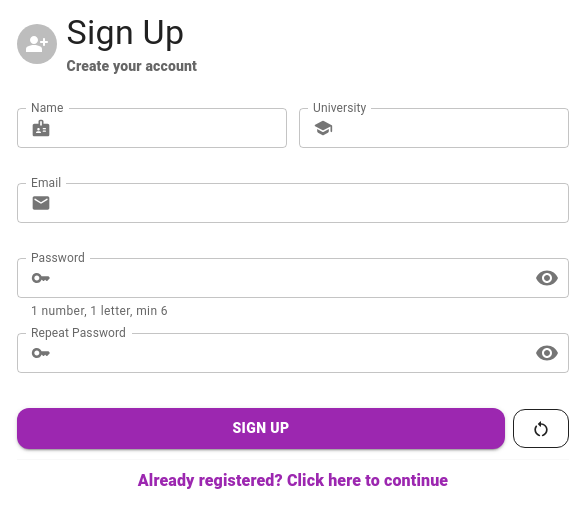
Test: SignUpForm › labels and independently toggles both password visibility controls
The width and height of the screenshot is (586, 506).
Click the button named "Show password": (547, 278) [527,258,567,298]
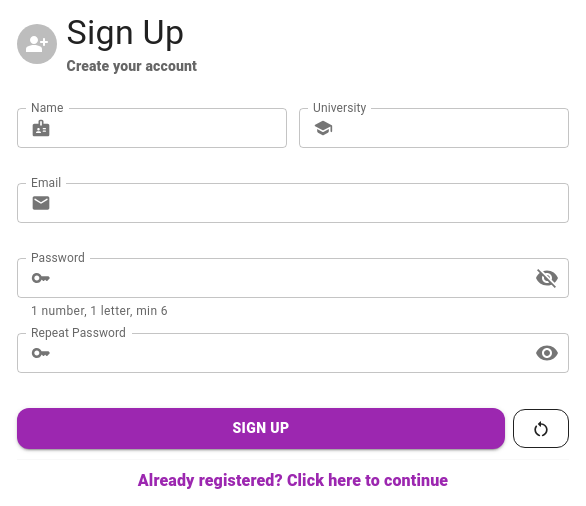
Click the button named "Show repeated password": (547, 353) [527,333,567,373]
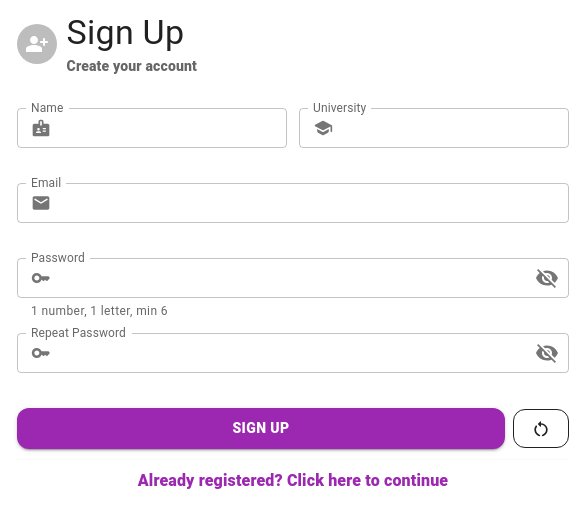
Now the button named "Hide repeated password" is shown, box [527,333,567,373]
